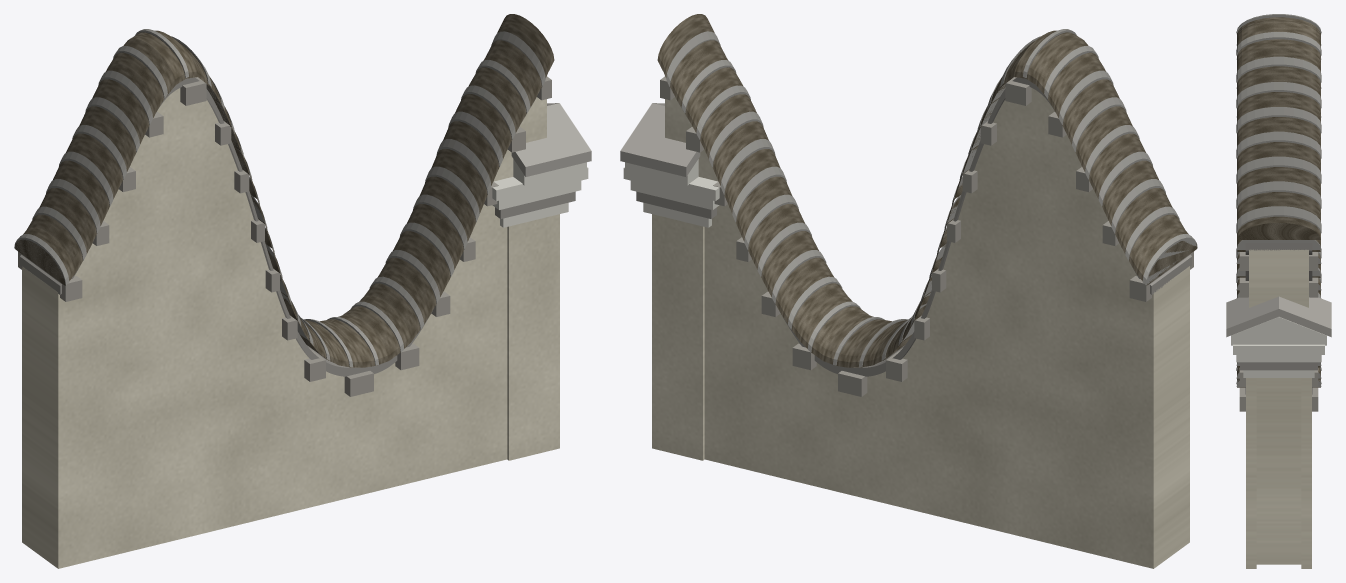
Rendered from ye-cotton-shop-saddle-gable-near.glb.
3 renders of one model, left to right at view 1: azimuth 30°, elevation 25°; view 2: azimuth 150°, elevation 25°; view 3: azimuth 270°, elevation 25°, orthographic. The views are drawn at different scales.
Visible parts, largest first — view 1: 新场叶氏花行120号院内凹曲山墙与叠瓦压顶; view 2: 新场叶氏花行120号院内凹曲山墙与叠瓦压顶; view 3: 新场叶氏花行120号院内凹曲山墙与叠瓦压顶.
Part boxes in pixels (<box>): 新场叶氏花行120号院内凹曲山墙与叠瓦压顶: <box>14,14,591,568</box>; 新场叶氏花行120号院内凹曲山墙与叠瓦压顶: <box>620,14,1197,568</box>; 新场叶氏花行120号院内凹曲山墙与叠瓦压顶: <box>1226,14,1331,568</box>.
Size of the model in its own units: 2.15 by 1.93 by 0.458.
7 materials, 2 textured.
